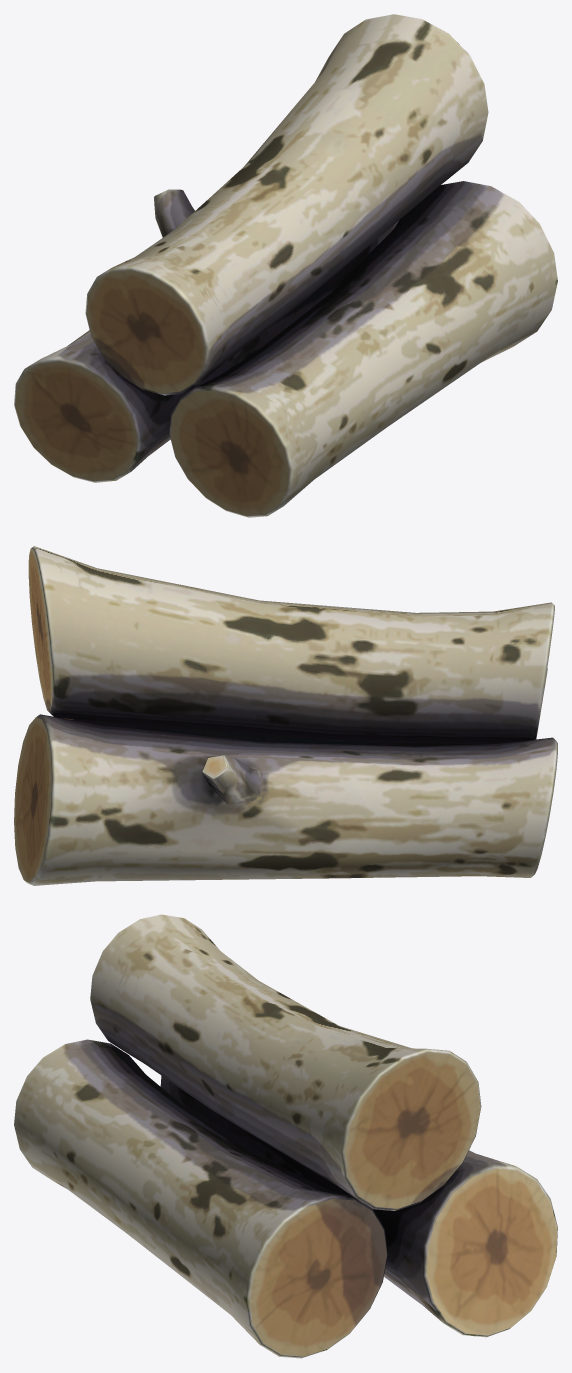
File: wood.glb
3 views of the same model, one above another, from view 1: azimuth 30°, elevation 25°; view 2: azimuth 150°, elevation 25°; view 3: azimuth 270°, elevation 25° (orthographic). The views are drawn at different scales.
Visible parts, largest first — view 1: Logs; view 2: Logs; view 3: Logs.
Boxes of the visible parts, left/top/right/bottom form: Logs: left=14, top=14, right=557, bottom=517; Logs: left=14, top=546, right=557, bottom=885; Logs: left=14, top=914, right=557, bottom=1358.
Size of the model in its own units: 0.3716 by 0.2013 by 0.336.
1 material, 1 textured.
